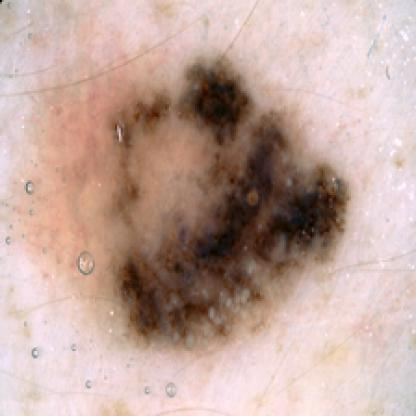malignant: (113, 43, 357, 340)
